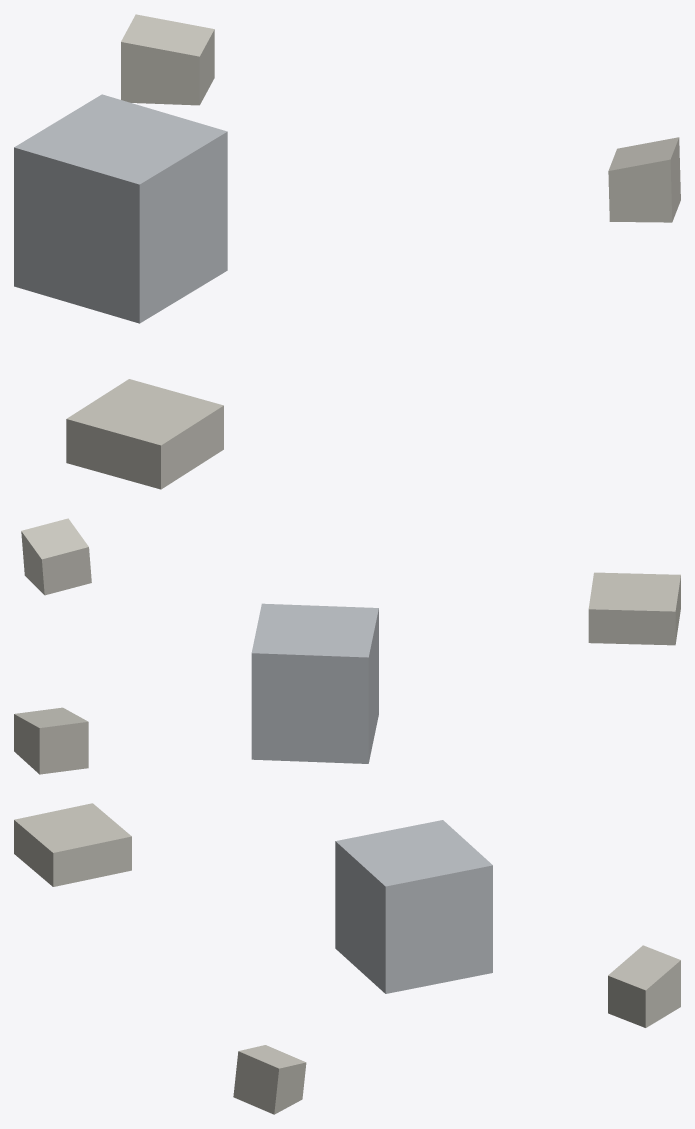
The model's file is Rocks_Square_s_03.fbx.
3 views of the same model, one above another, from view 1: azimuth 30°, elevation 25°; view 2: azimuth 150°, elevation 25°; view 3: azimuth 270°, elevation 25° (orthographic). The views are drawn at different scales.
Parts seen in each view (by area): view 1: Rocks_Square_s_03; view 2: Rocks_Square_s_03; view 3: Rocks_Square_s_03.
Boxes of the visible parts, x1,y1,x2,y2 form: Rocks_Square_s_03: [14, 14, 680, 489]; Rocks_Square_s_03: [14, 518, 680, 774]; Rocks_Square_s_03: [14, 803, 680, 1114].
Size of the model in its own units: 82.02 by 14.86 by 83.52.
